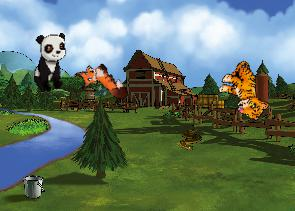fox: (71, 53, 131, 115)
panda: (33, 32, 67, 93)
tiger: (211, 56, 281, 124)
